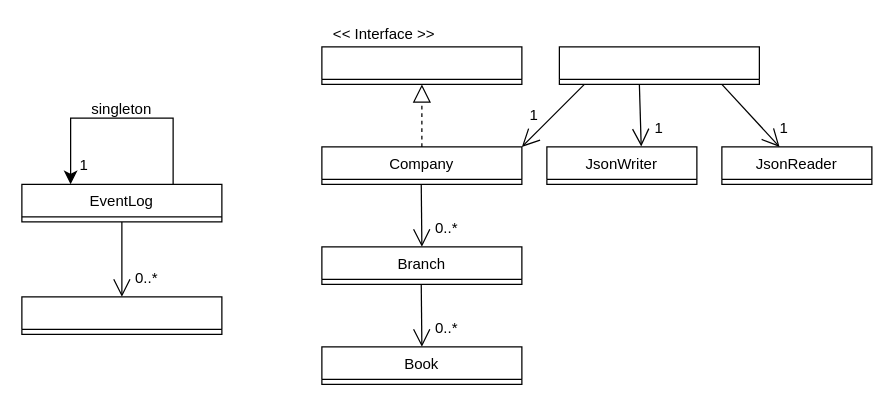
This 894x406 diagram has some shape labels left out. Each missing label, with the centre of its shape:
Event: the point at 121,315
GraphicalBookStoreApp: the point at 658,65
Writable: the point at 421,65
